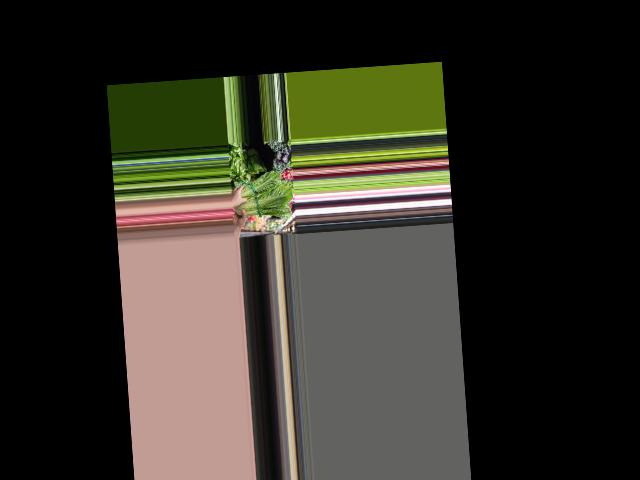lettuce: (229, 169, 291, 220)
